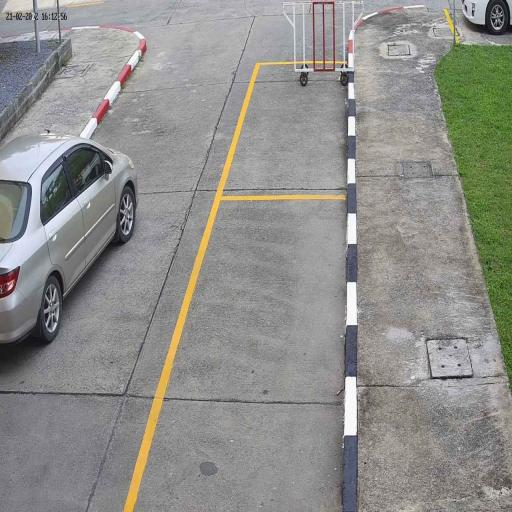car: (0, 130, 138, 346)
